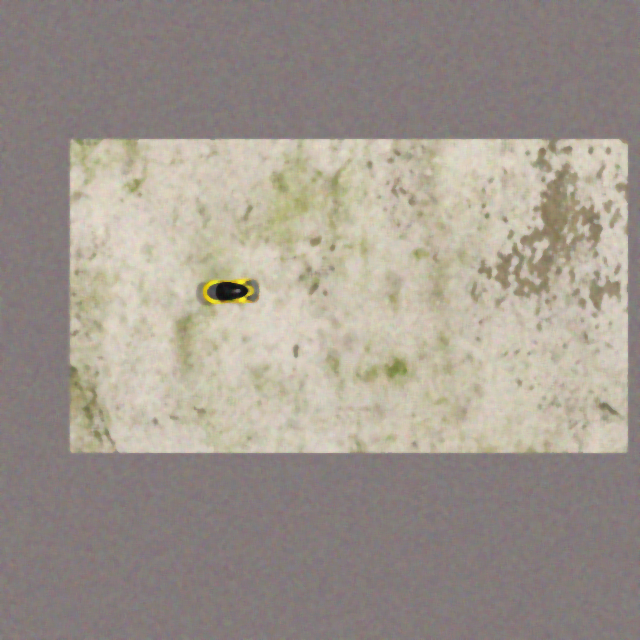car: (199, 277, 261, 306)
